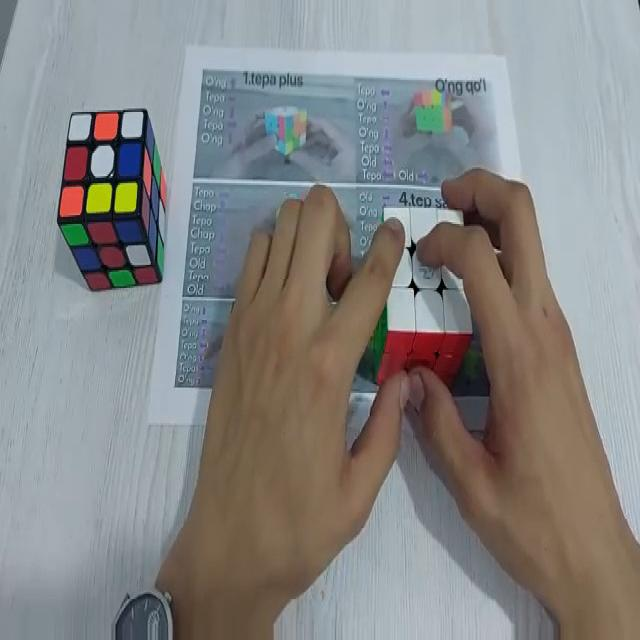Rub: (60, 105, 167, 291), (377, 202, 473, 385)
